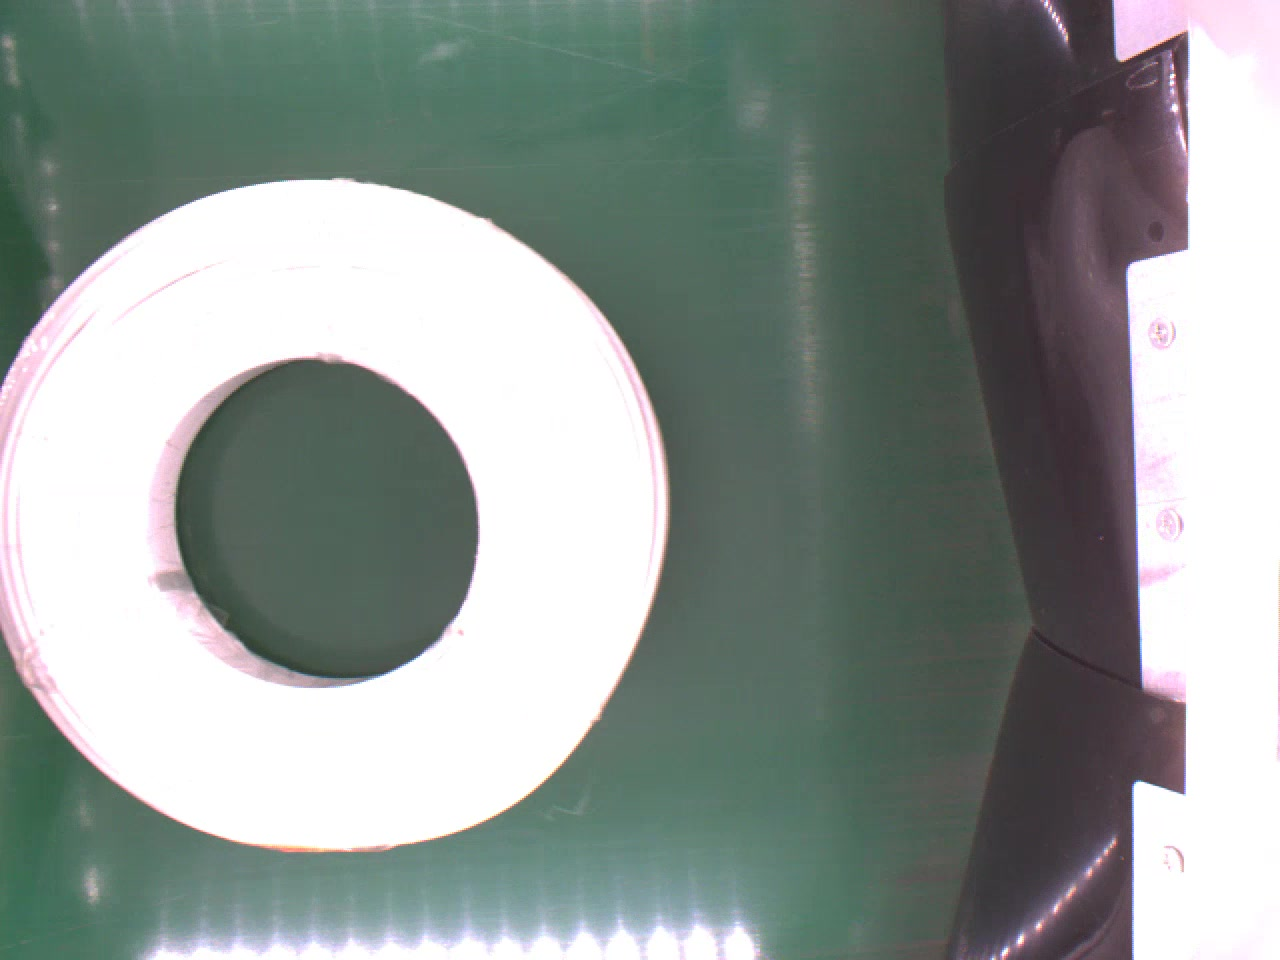white: (0, 176, 672, 862)
